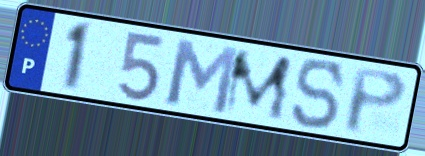1: (63, 18, 99, 96)
5: (114, 28, 170, 103)
M: (163, 35, 241, 117), (219, 48, 296, 123)
P: (342, 65, 410, 138)
S: (289, 57, 348, 132)
